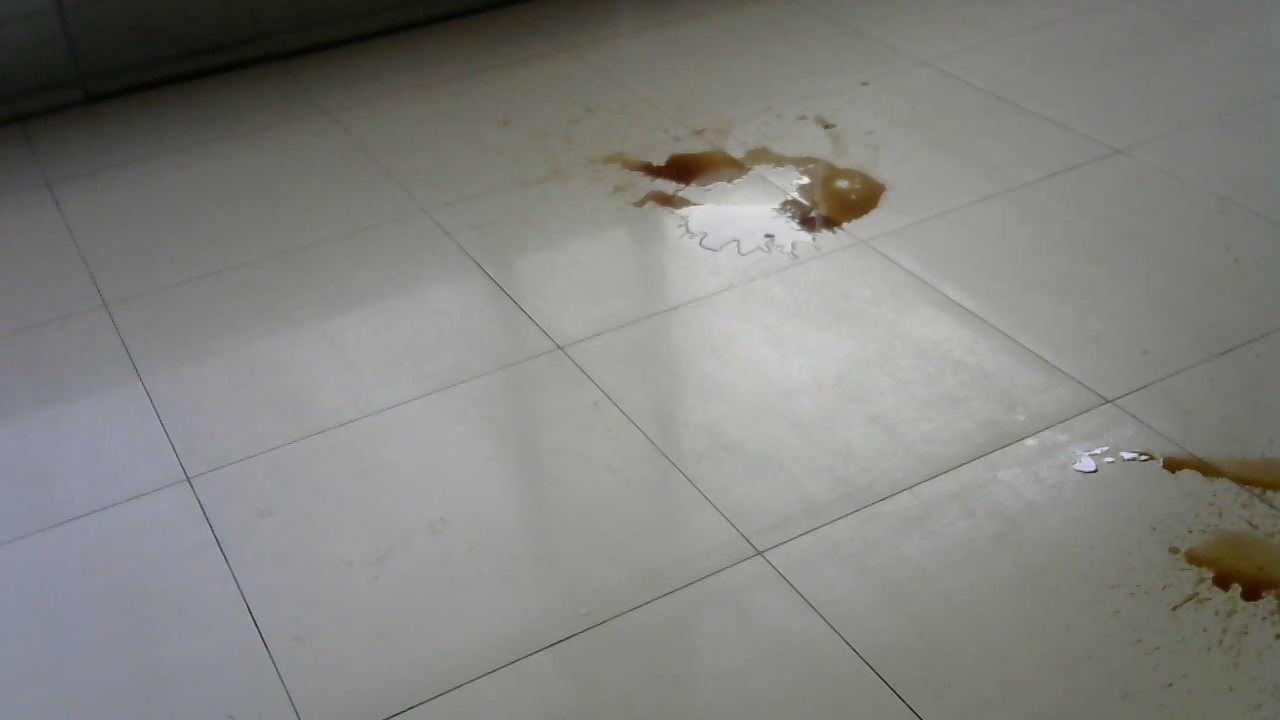dirty_floor: (553, 99, 895, 263), (1067, 435, 1280, 660)
